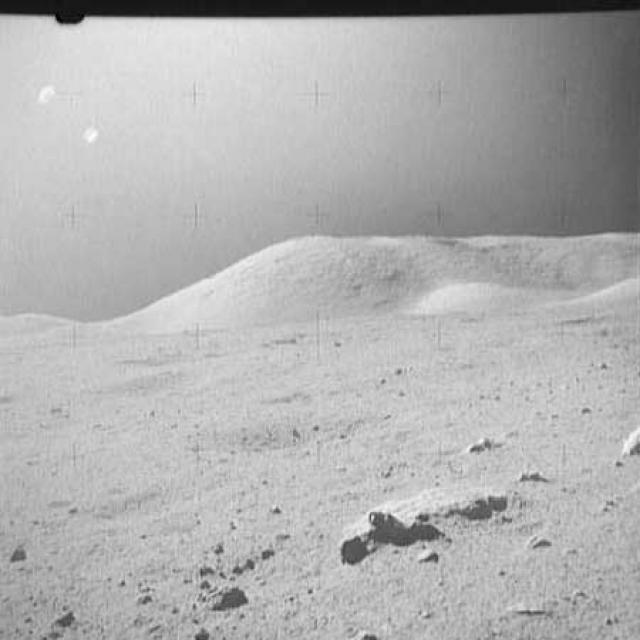crater: (204, 416, 361, 448)
rock: (328, 478, 510, 564), (615, 425, 640, 458), (460, 433, 494, 455)
